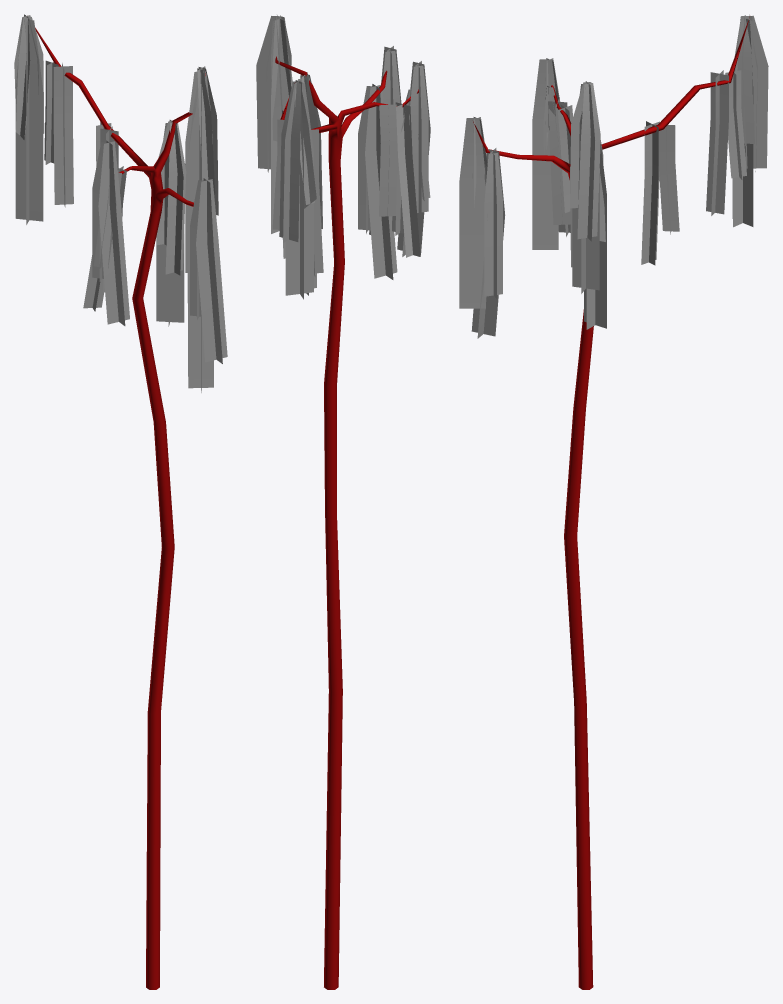
Rendered from env_forest_birchsmall01.fbx.
The picture shows the model from 3 angles, left to right: view 1: azimuth 30°, elevation 25°; view 2: azimuth 150°, elevation 25°; view 3: azimuth 270°, elevation 25°; orthographic projection. The views are drawn at different scales.
Visible parts, largest first — view 1: env_forest_birchsmall01__submesh0; view 2: env_forest_birchsmall01__submesh0; view 3: env_forest_birchsmall01__submesh0.
Part boxes in pixels (x1=…): env_forest_birchsmall01__submesh0: x1=14, y1=14, x2=227, y2=989; env_forest_birchsmall01__submesh0: x1=256, y1=15, x2=430, y2=989; env_forest_birchsmall01__submesh0: x1=459, y1=14, x2=768, y2=989.
Bounding box in the file's own units: 8.27 × 50.99 × 15.04.
